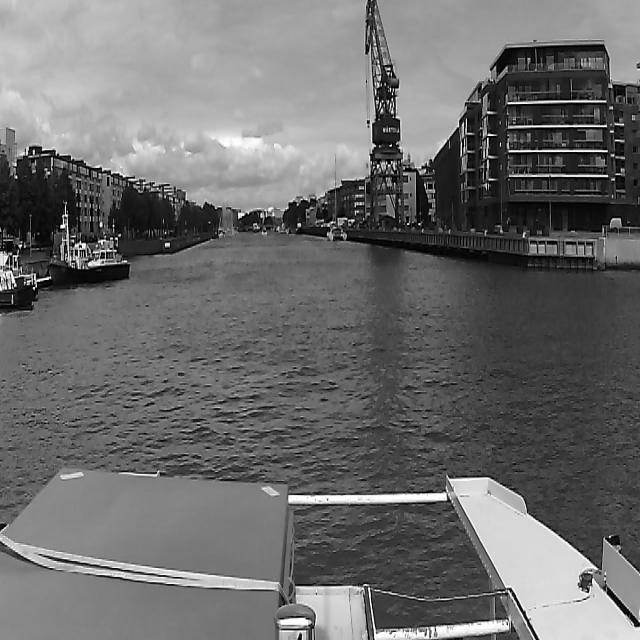ship: (320, 149, 350, 241), (52, 200, 82, 287), (1, 241, 36, 312), (86, 223, 130, 278), (260, 224, 270, 240), (252, 220, 258, 233)
